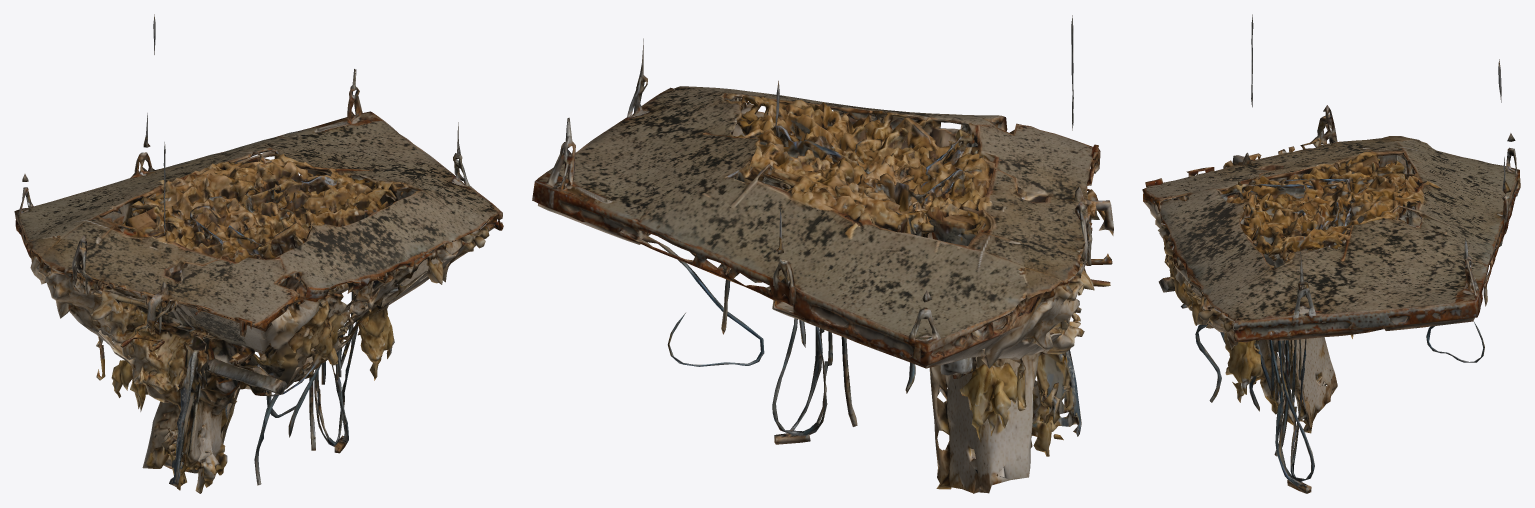
The model's file is CeilingPanel.fbx.
The picture shows the model from 3 angles, left to right: view 1: azimuth 30°, elevation 25°; view 2: azimuth 150°, elevation 25°; view 3: azimuth 270°, elevation 25°; orthographic projection. The views are drawn at different scales.
Visible parts, largest first — view 1: texture_mapping; view 2: texture_mapping; view 3: texture_mapping.
Boxes of the visible parts, box(x1,y1,x2,y2) form: texture_mapping: box(14, 14, 503, 493); texture_mapping: box(532, 15, 1113, 493); texture_mapping: box(1142, 14, 1520, 493).
Bounding box in the file's own units: 0.9962 × 0.8209 × 0.9385.
Materials: 1 (1 with a texture image).
